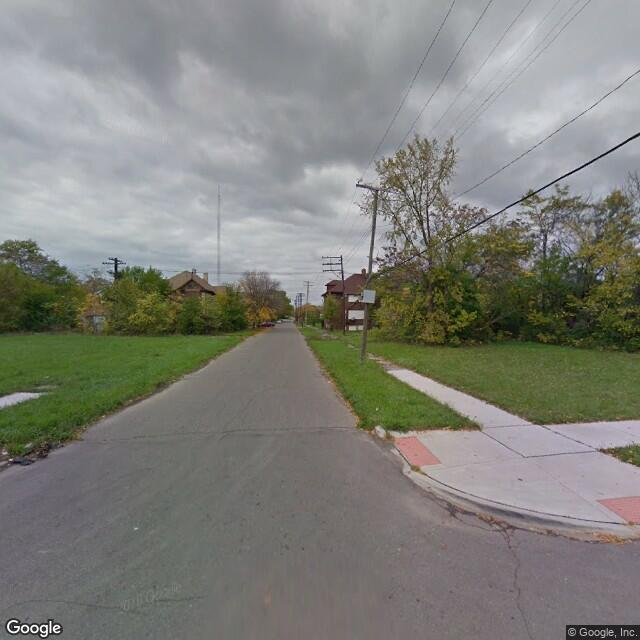litter: (8, 456, 15, 464), (372, 405, 382, 410), (132, 525, 138, 532), (101, 413, 107, 415)
